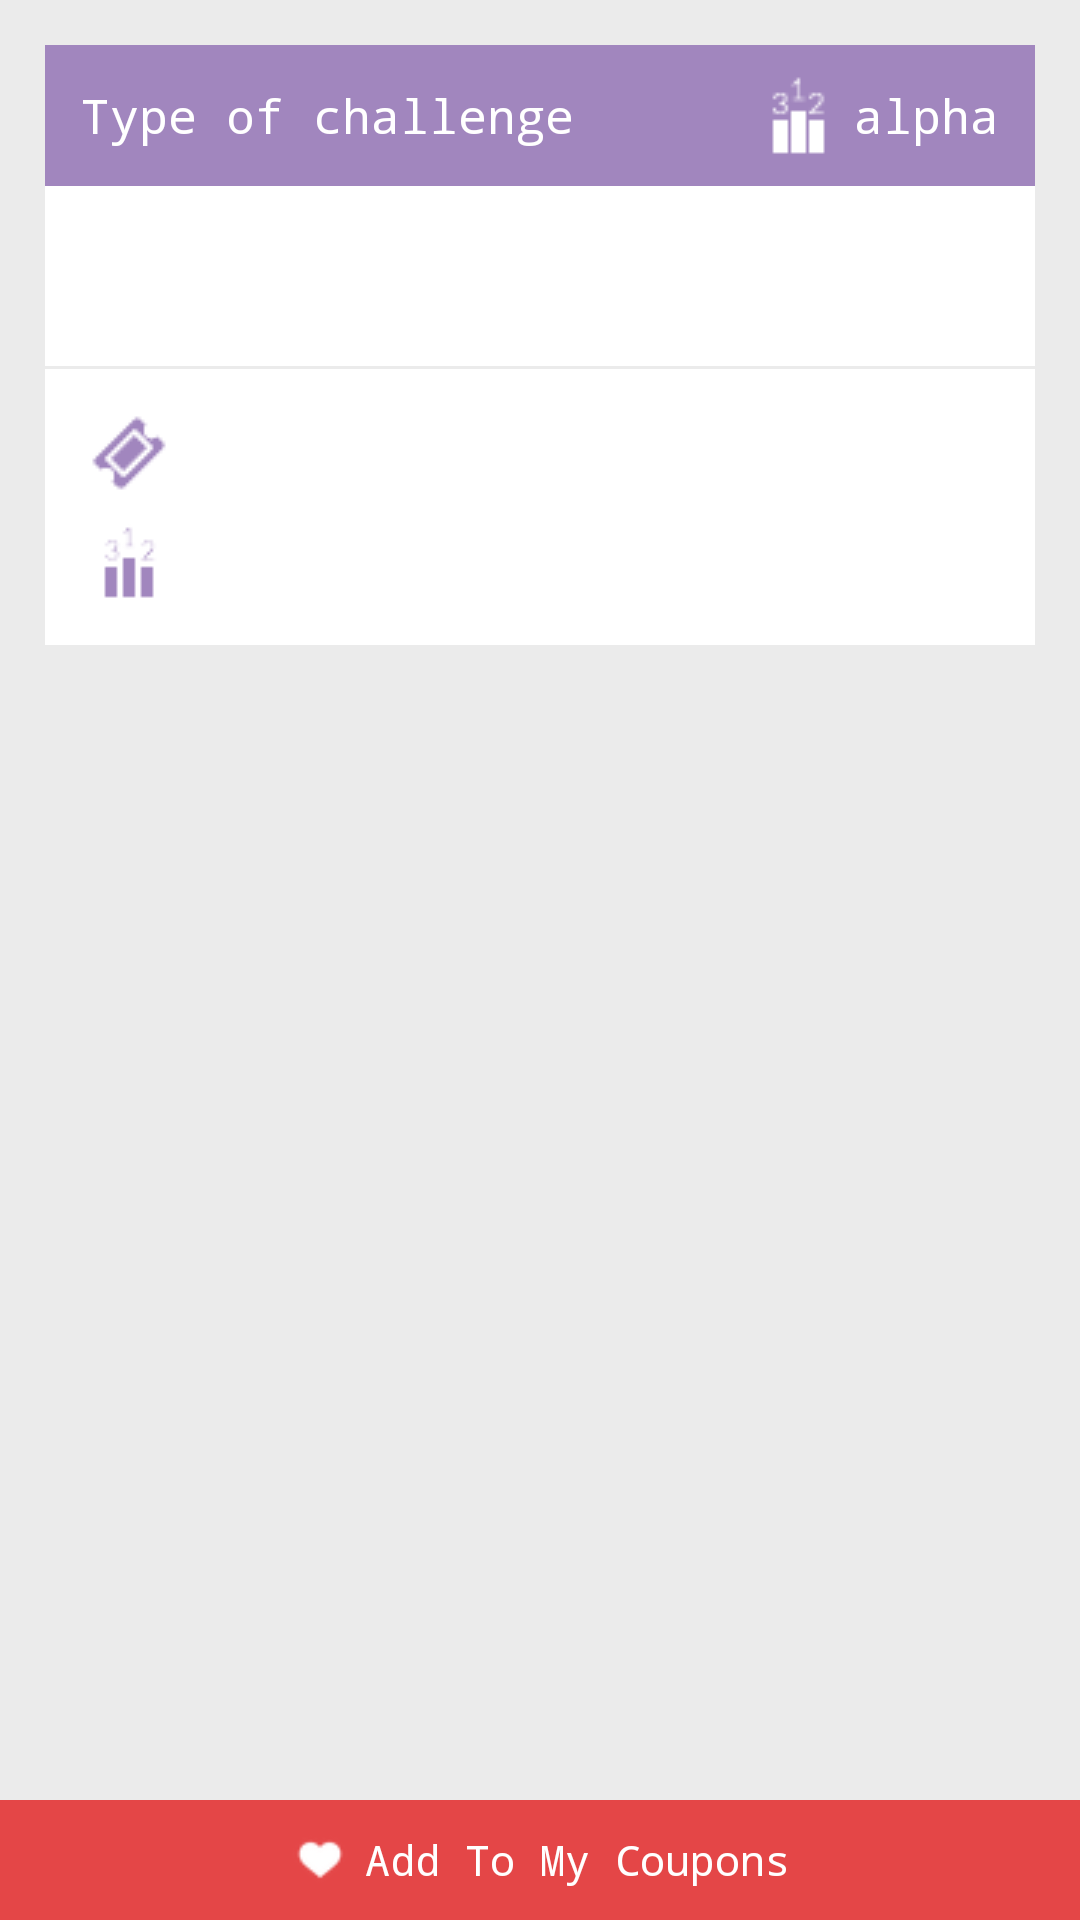

Point at icon controls on the screen. Image size 1080px×1920px, points as [x,y].
rsz heart: [320,1859]
